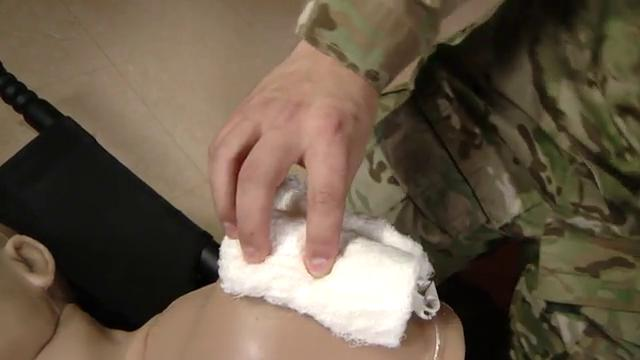gauze: (219, 177, 435, 349)
